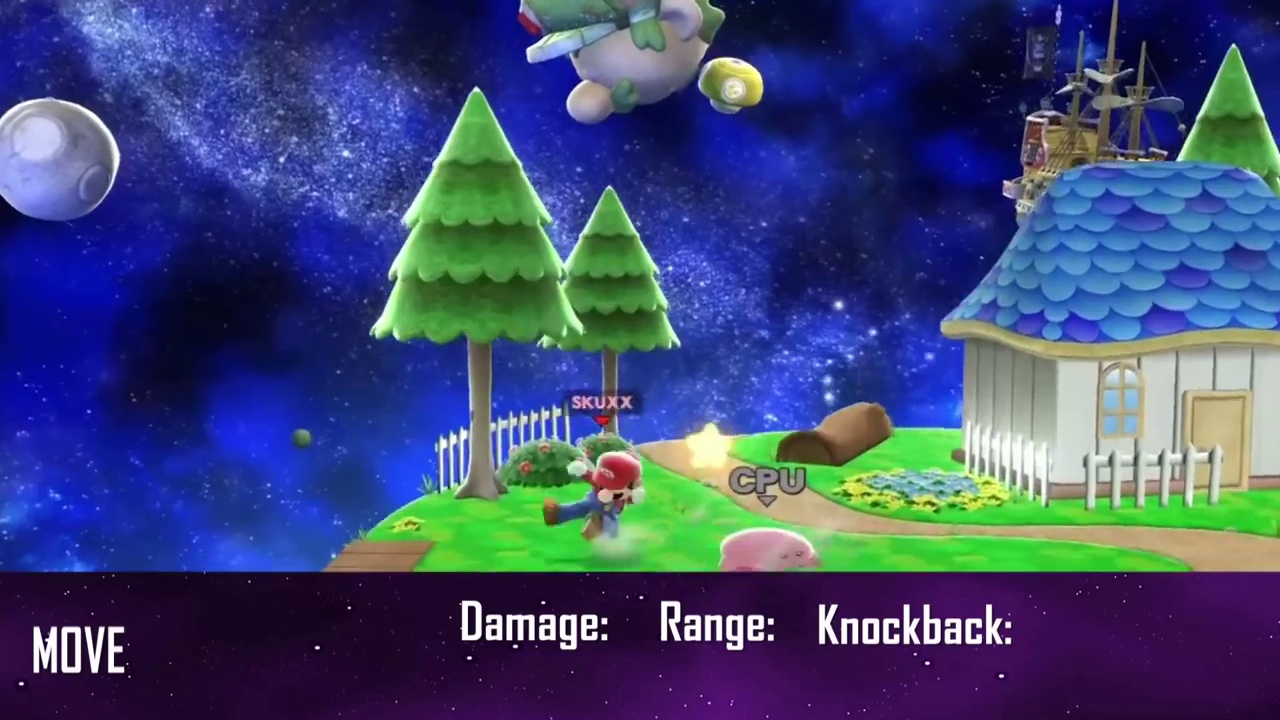Mario: (546, 451, 646, 544)
